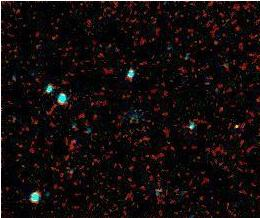star: (219, 110, 249, 140)
